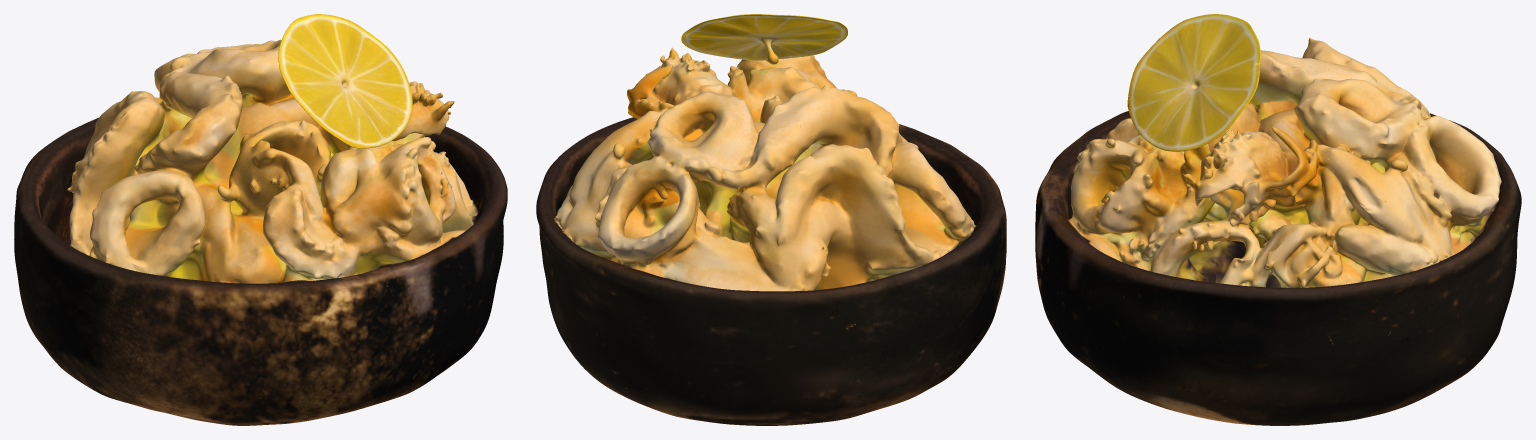
File: Fried-Calamari.glb
3 views of the same model, side by side, from view 1: azimuth 30°, elevation 25°; view 2: azimuth 150°, elevation 25°; view 3: azimuth 270°, elevation 25° (orthographic). The views are drawn at different scales.
Parts seen in each view (by area): view 1: Mesh_0; view 2: Mesh_0; view 3: Mesh_0.
Part boxes in pixels (x1,y1,x2,y2): Mesh_0: [14, 14, 507, 425]; Mesh_0: [536, 14, 1006, 425]; Mesh_0: [1035, 14, 1521, 425].
Bounding box in the file's own units: 0.057 × 0.0464 × 0.0557.
1 material, 1 textured.
